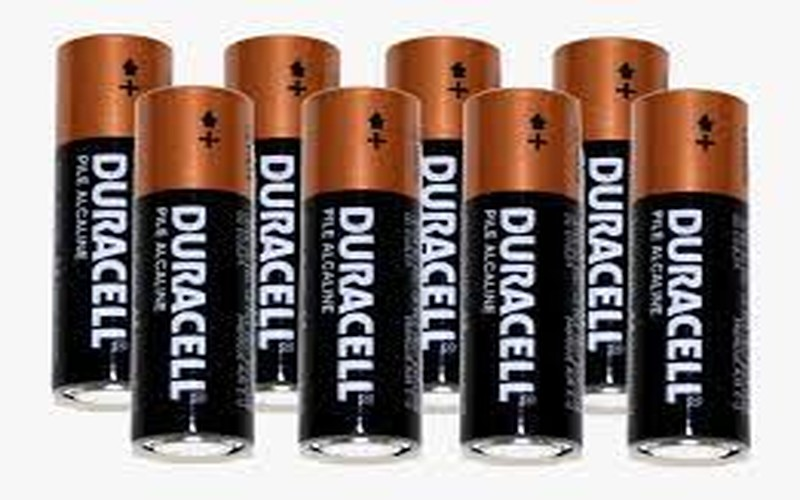Battery: (32, 12, 770, 476)
